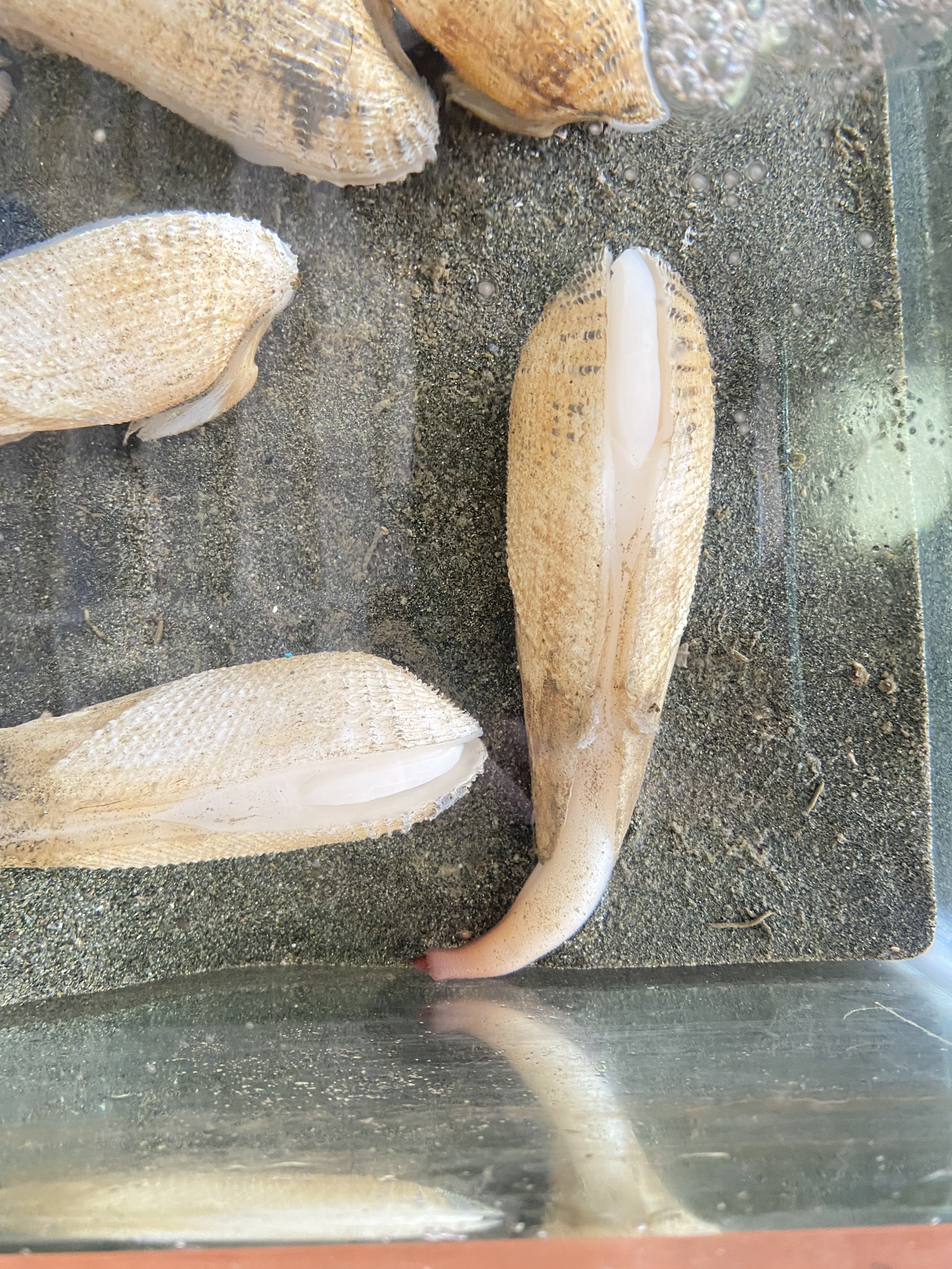Healthy: (430, 250, 713, 976)
